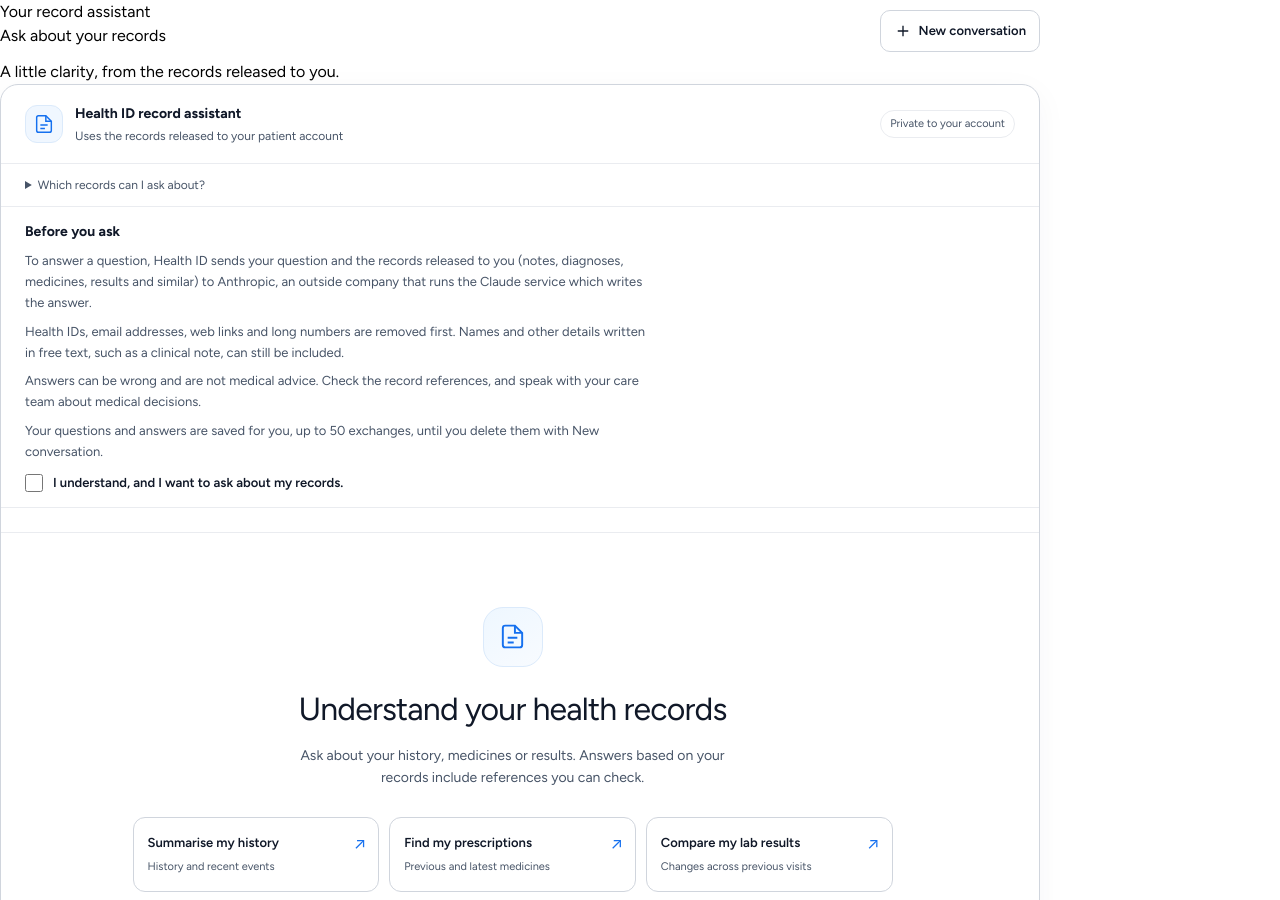
Test case: renders blocks as text, with references that point at their sources, and no markup
This screenshot has width=1280, height=900.
Expected: the heading "Before you ask" is shown, [25,223,120,240]
Click the checkbox labelled "I understand, and I want to ask about my records.": (34, 483) [25,474,43,492]
(page scrolled)
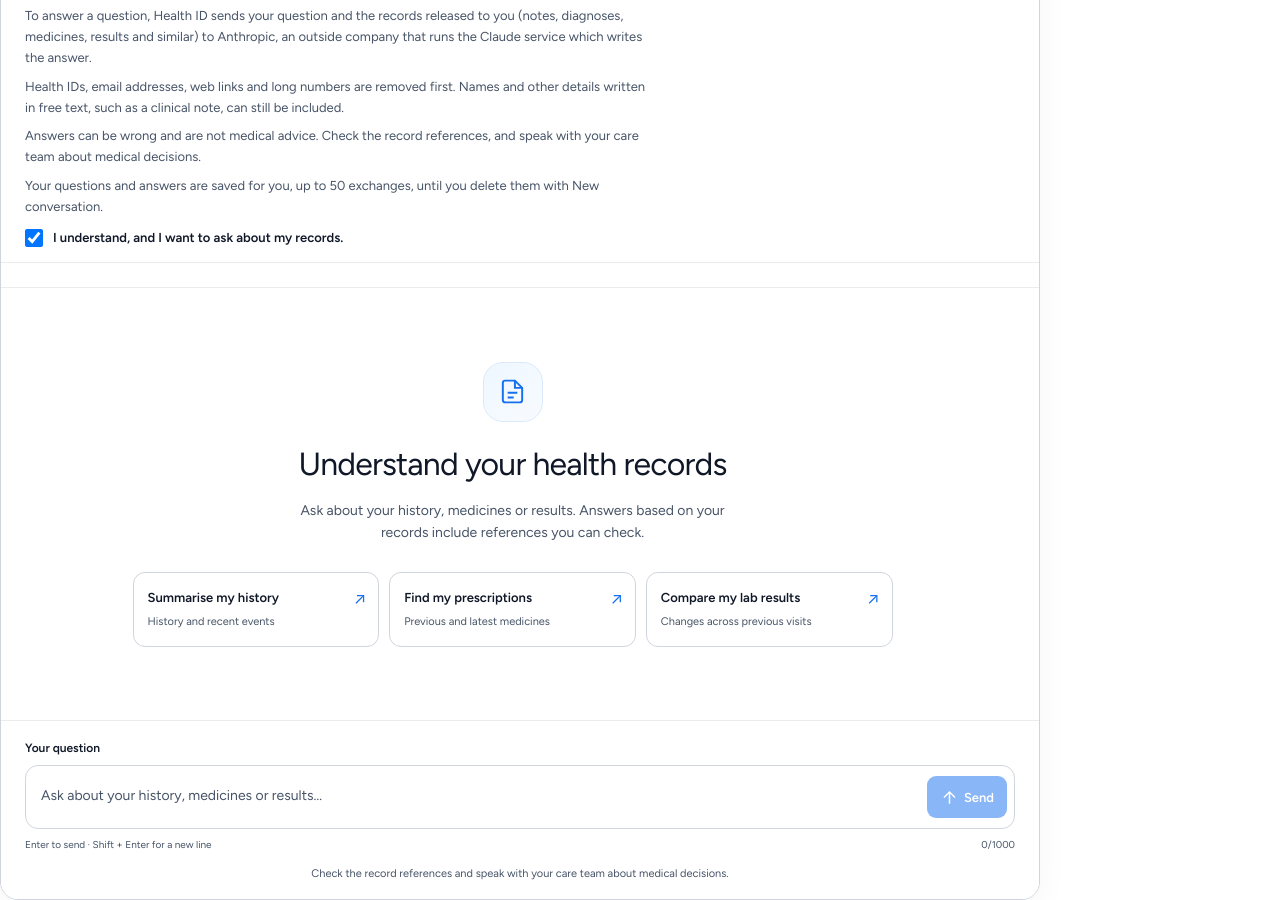
In the text box labelled "Your question": (475, 797) [33,773,917,821], type "Question"
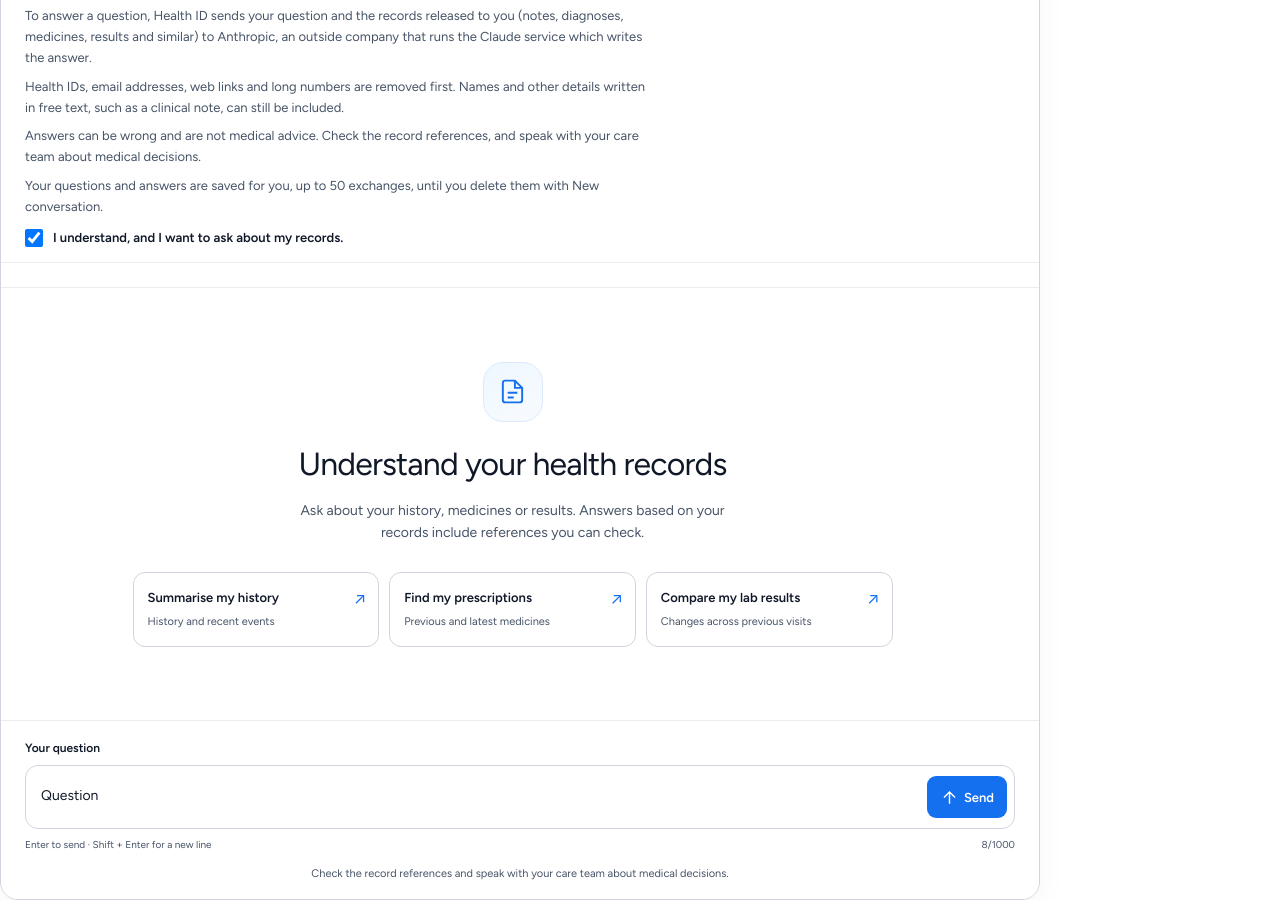
Click the button with aria-label "Send question": (967, 797) [927,776,1007,818]
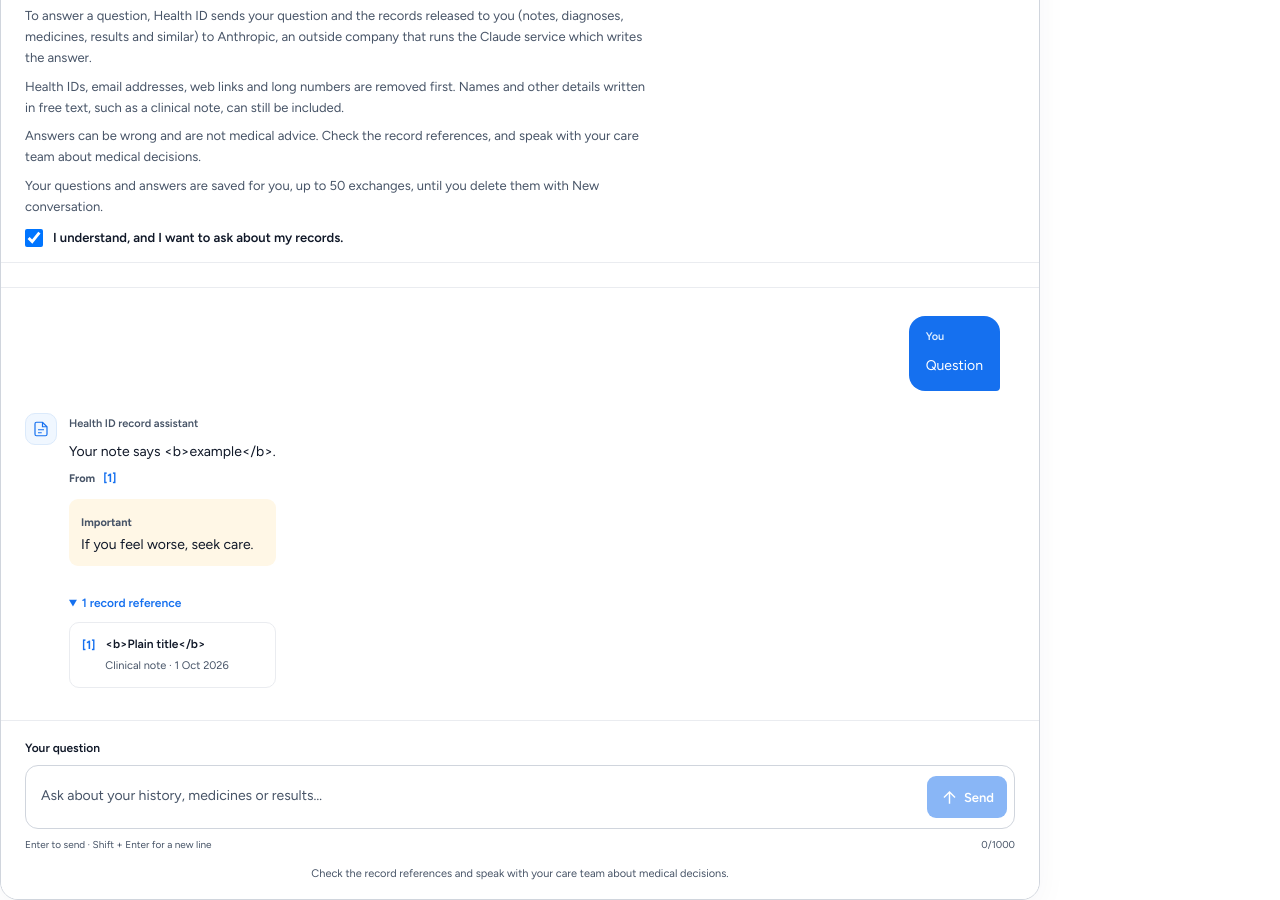
Now the text "Your note says <b>example</b>." is shown, box [69,440,276,464]
Now the text "Important" is shown, box [81,516,132,529]
Now the text "Clinical note · 1 Oct 2026" is shown, box [105,658,229,675]
